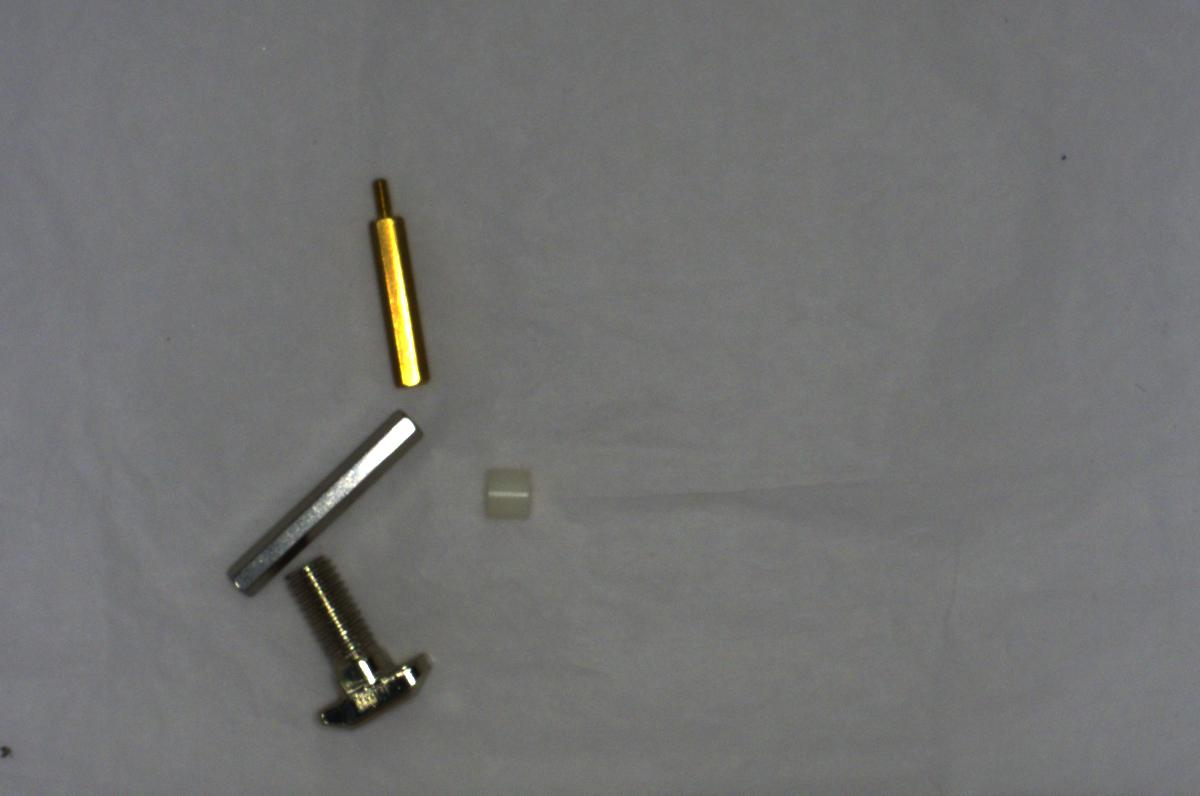Double hexagonal column: (221, 393, 418, 596)
Hexagon pillar: (361, 169, 430, 393)
Plastic cushion pillar: (477, 455, 541, 527)
T-shaped screw: (278, 550, 440, 735)
